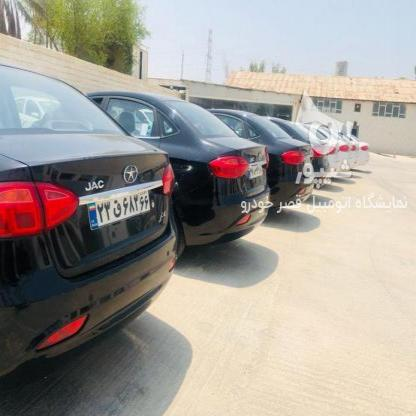licence: (87, 188, 150, 230), (246, 161, 264, 180)
